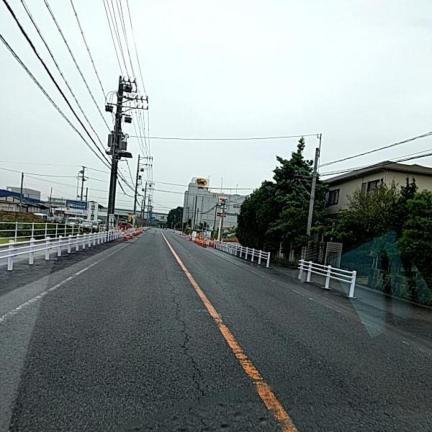Road: (0, 230, 431, 431)
